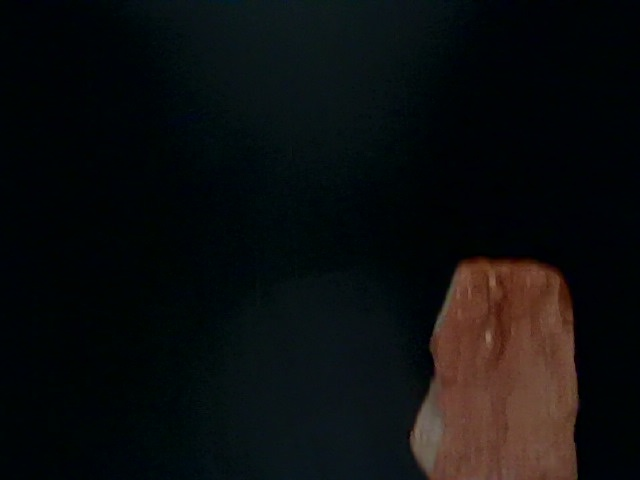KHSLJ: (70, 267, 397, 480)
